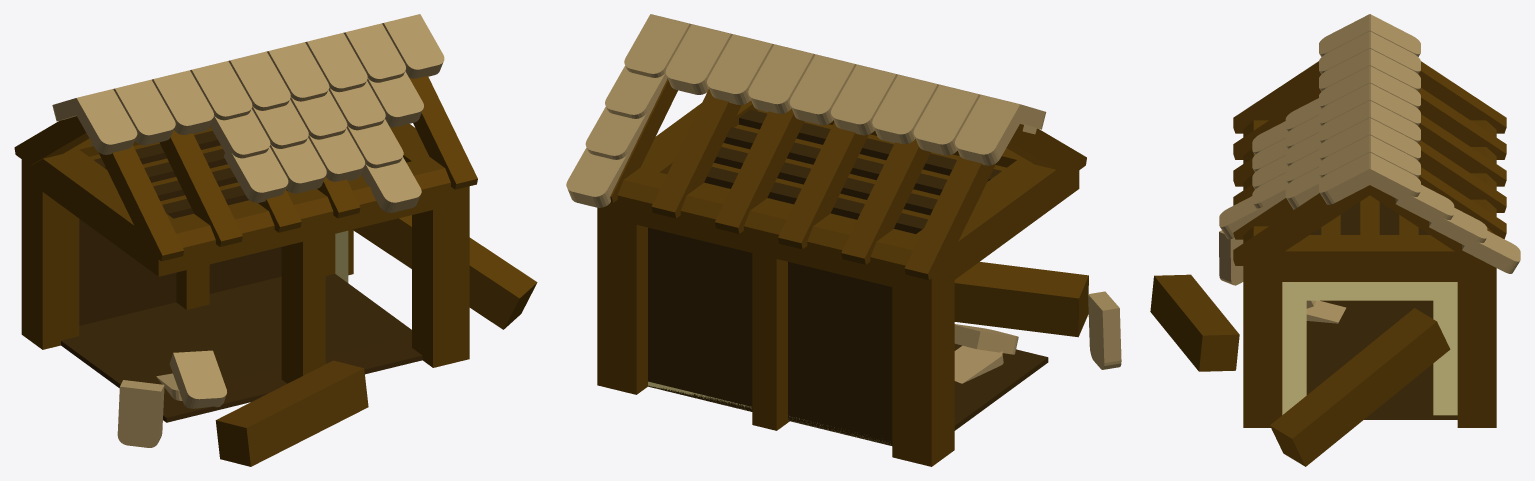
Rendered from forGame.fbx.
3 renders of one model, left to right at view 1: azimuth 30°, elevation 25°; view 2: azimuth 150°, elevation 25°; view 3: azimuth 270°, elevation 25°, orthographic. The views are drawn at different scales.
Parts seen in each view (by area): view 1: beam.001, roof.002, walls.001, roofBeam; view 2: beam.001, walls.001, roof.002, roofBeam; view 3: beam.001, roof.002, roofBeam, walls.001.
Boxes of the visible parts, x1=… form: beam.001: x1=21, y1=124, x2=537, y2=466; roof.002: x1=52, y1=14, x2=444, y2=447; walls.001: x1=61, y1=127, x2=422, y2=422; roofBeam: x1=14, y1=76, x2=477, y2=261; beam.001: x1=597, y1=100, x2=1088, y2=466; walls.001: x1=648, y1=109, x2=1048, y2=445; roof.002: x1=566, y1=14, x2=1121, y2=383; roofBeam: x1=610, y1=78, x2=1086, y2=280; beam.001: x1=1150, y1=120, x2=1496, y2=466; roof.002: x1=1219, y1=14, x2=1520, y2=323; roofBeam: x1=1233, y1=61, x2=1506, y2=265; walls.001: x1=1282, y1=195, x2=1457, y2=419.
Size of the model in its own units: 487 by 314 by 380.
